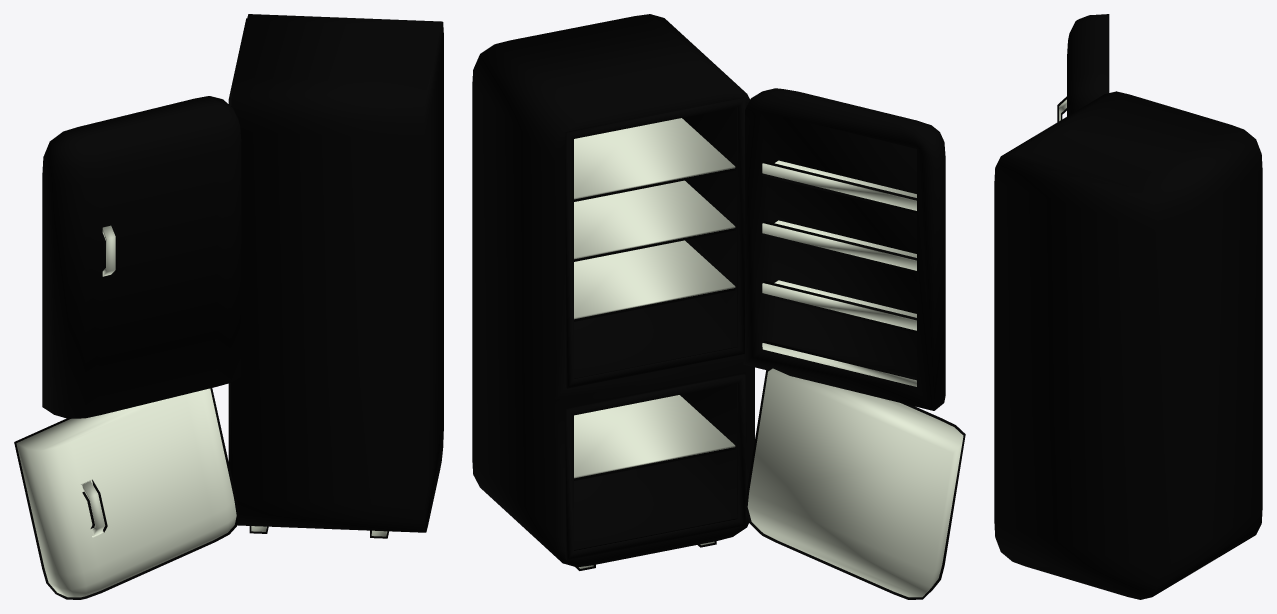
Rendered from Nevera.fbx.
3 renders of one model, left to right at view 1: azimuth 30°, elevation 25°; view 2: azimuth 150°, elevation 25°; view 3: azimuth 270°, elevation 25°, orthographic. The views are drawn at different scales.
Parts seen in each view (by area): view 1: Fridge, Fridge.Door.U, Fridge.Door.L; view 2: Fridge, Fridge.Door.U, Fridge.Door.L; view 3: Fridge, Fridge.Door.U.
Part boxes in pixels (left/top/right/bottom): Fridge: left=228, top=14, right=443, bottom=538; Fridge.Door.U: left=42, top=96, right=241, bottom=418; Fridge.Door.L: left=14, top=388, right=238, bottom=599; Fridge: left=472, top=14, right=754, bottom=570; Fridge.Door.U: left=743, top=88, right=945, bottom=410; Fridge.Door.L: left=745, top=366, right=965, bottom=599; Fridge: left=994, top=91, right=1262, bottom=599; Fridge.Door.U: left=1057, top=14, right=1109, bottom=122.
Bounding box in the file's own units: 201 × 198 × 111.
